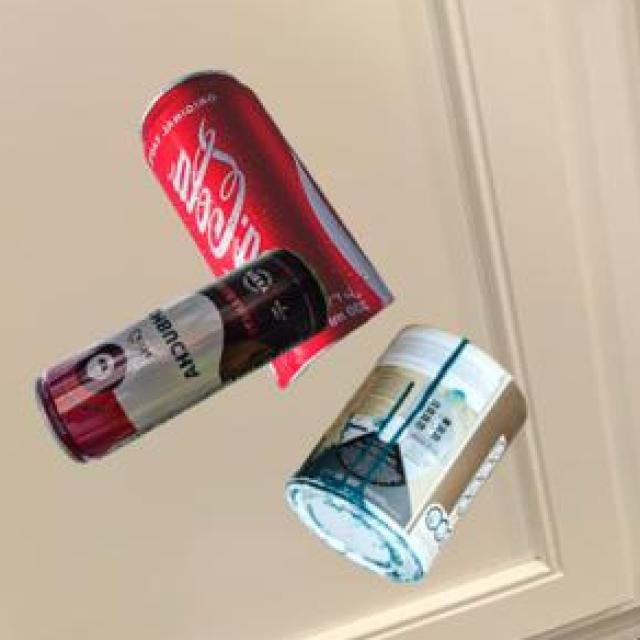logam: (144, 69, 398, 385), (38, 247, 332, 459), (288, 321, 529, 578)
